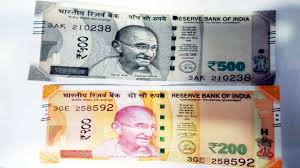twoHundred: (53, 88, 263, 161)
